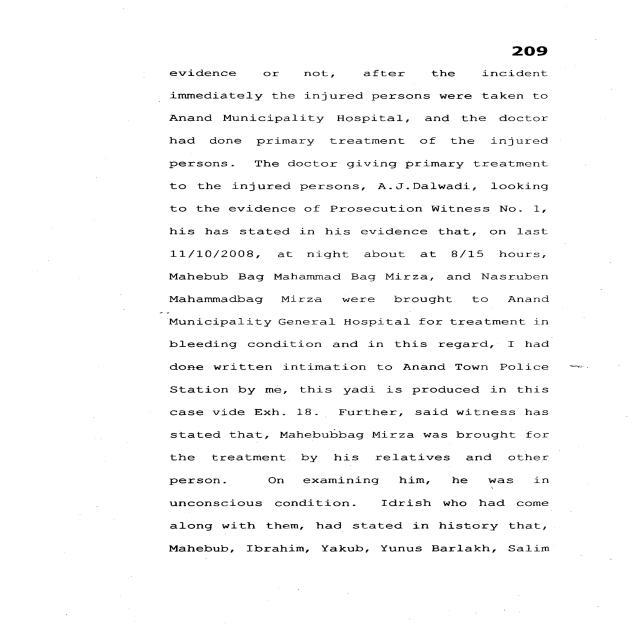page-number: (422, 0, 634, 61)
